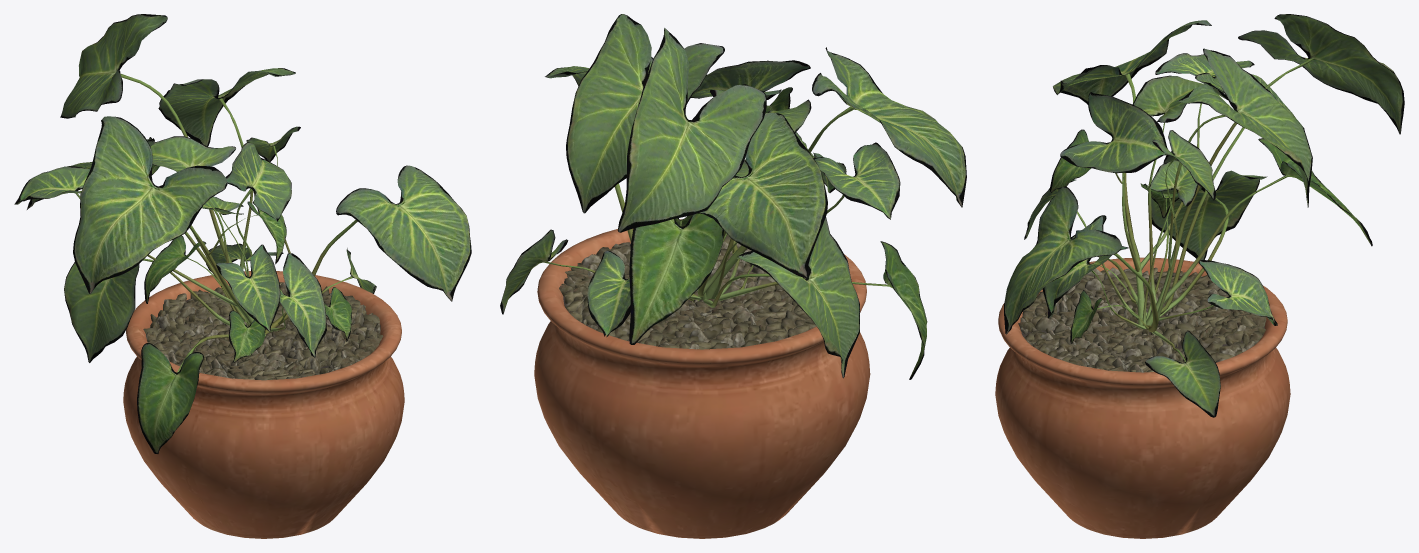
File: potted-plant-cc0.glb
3 views of the same model, side by side, from view 1: azimuth 30°, elevation 25°; view 2: azimuth 150°, elevation 25°; view 3: azimuth 270°, elevation 25° (orthographic). The views are drawn at different scales.
Parts seen in each view (by area): view 1: potted_plant_02_leaves, potted_plant_02_pot; view 2: potted_plant_02_leaves, potted_plant_02_pot; view 3: potted_plant_02_pot, potted_plant_02_leaves.
Part boxes in pixels (box(x1,y1,x2,y2)): potted_plant_02_leaves: box(14, 14, 471, 453); potted_plant_02_pot: box(123, 271, 404, 538); potted_plant_02_leaves: box(500, 14, 966, 379); potted_plant_02_pot: box(534, 219, 870, 538); potted_plant_02_pot: box(995, 257, 1290, 538); potted_plant_02_leaves: box(1004, 14, 1404, 417).
Size of the model in its own units: 0.7009 by 0.8412 by 0.6574.
Materials: 2 (2 with a texture image).
